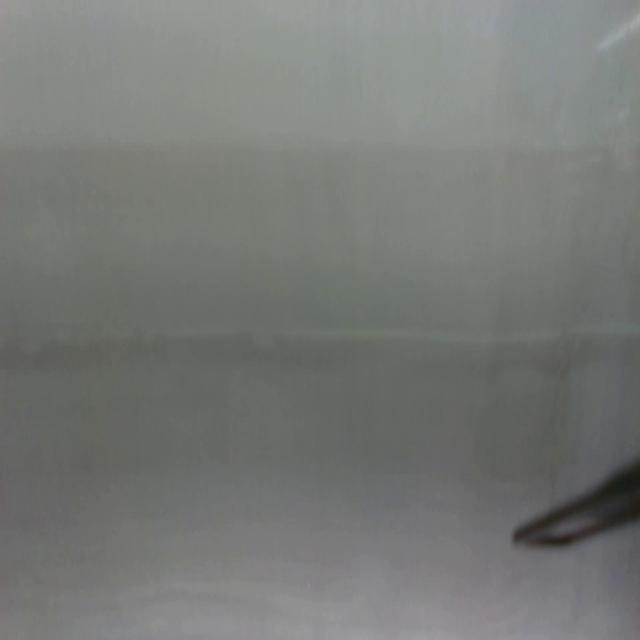color bleeding: (0, 319, 640, 383)
